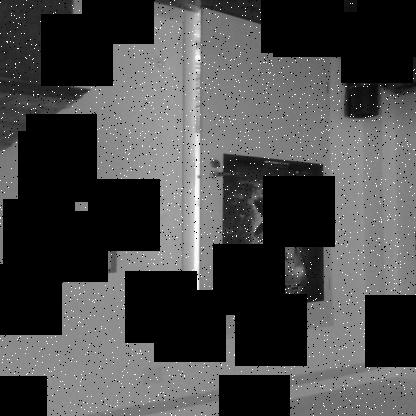Porte: (179, 2, 337, 348)
